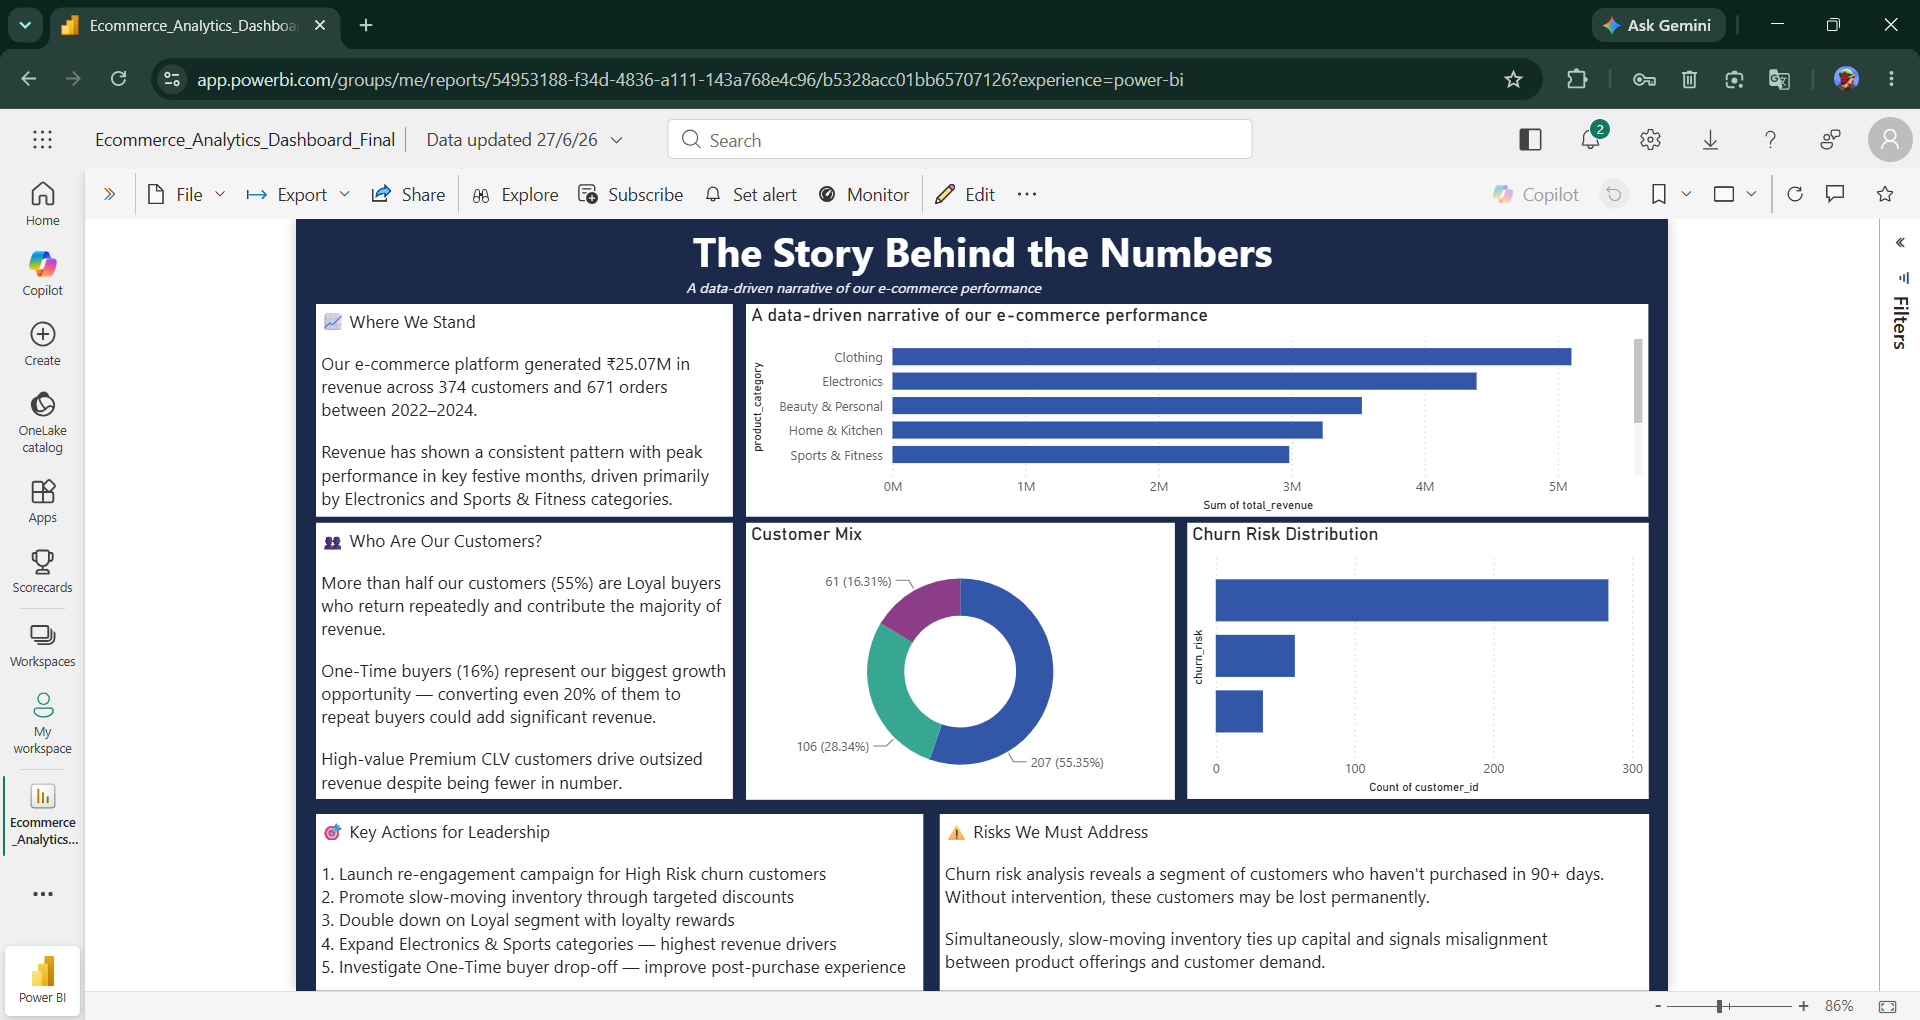

The page's visual inventory and layout, read from the dashboard file:
{"tool":"powerbi","page":{"name":"Story","canvas":[1280,720],"ordinal":5},"visuals":[{"type":"textbox","box":[18.8,78.8,388.8,198.8],"z":0},{"type":"textbox","box":[18.8,283.8,388.8,257.5],"z":1},{"type":"textbox","box":[600,555,661.2,165],"z":2},{"type":"textbox","box":[18.8,555,566.2,165],"z":3},{"type":"textbox","box":[358.8,0,562.5,78.8],"z":4},{"type":"clusteredBarChart","title":"A data-driven narrative of our e-commerce performance","fields":{"Category":["CategorySummary.product_category"],"Y":["Sum(CategorySummary.total_revenue)"]},"box":[420,78.8,841.2,198.8],"z":5},{"type":"donutChart","title":"Customer Mix","fields":{"Category":["CustomerSummary.segment"],"Y":["_Measures.Total Customers"]},"box":[420,283.8,400,258.8],"z":6},{"type":"clusteredBarChart","title":"Churn Risk Distribution","fields":{"Category":["ChurnRisk.churn_risk"],"Y":["CountNonNull(ChurnRisk.customer_id)"]},"box":[831.2,283.8,430,257.5],"z":7}]}

Visuals, with their boxes on the page's 1280x720 design canvas (x1, y1, x2, y2). These are canvas units, not pixel positions in the 1920x1020 screenshot, which may show the page scaled, cropped or inside an application window:
textbox: select_region(19, 79, 408, 278)
textbox: select_region(19, 284, 408, 541)
textbox: select_region(600, 555, 1261, 720)
textbox: select_region(19, 555, 585, 720)
textbox: select_region(359, 0, 921, 79)
"A data-driven narrative of our e-commerce performance" clusteredBarChart: select_region(420, 79, 1261, 278)
"Customer Mix" donutChart: select_region(420, 284, 820, 543)
"Churn Risk Distribution" clusteredBarChart: select_region(831, 284, 1261, 541)
